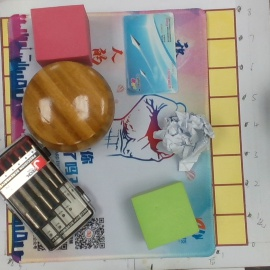card: (122, 11, 180, 95)
chess: (23, 61, 116, 152)
